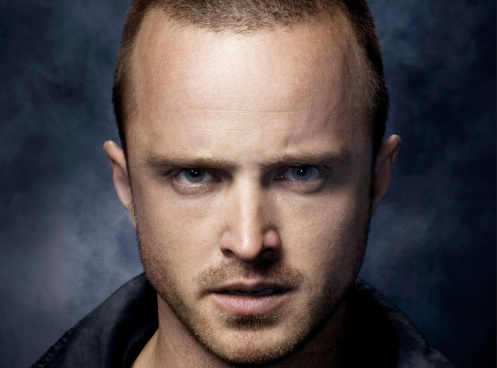Forehead: (131, 12, 368, 159)
